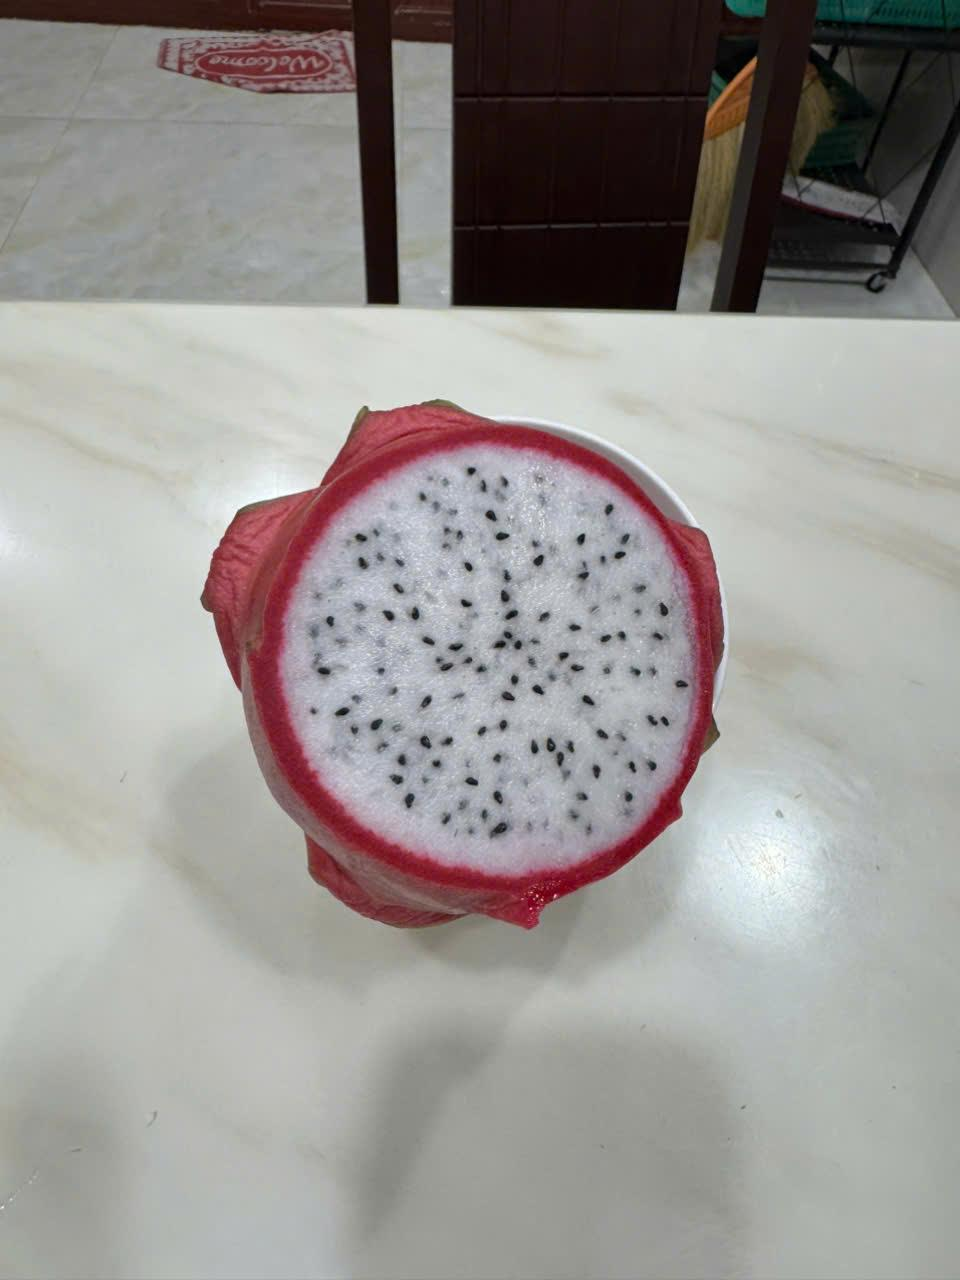dragon fruit: (184, 368, 803, 987)
